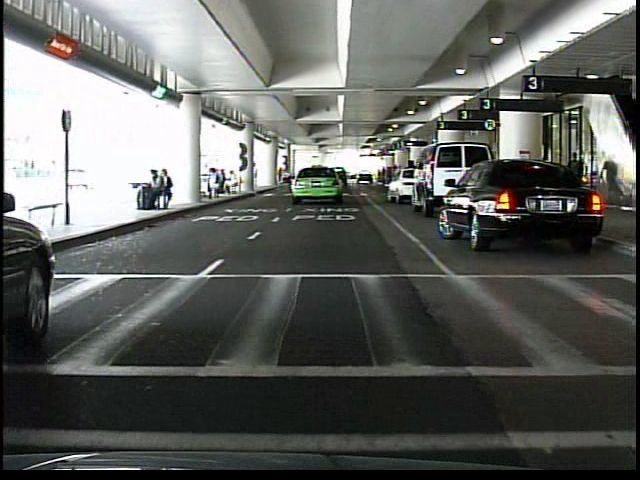person: (563, 149, 588, 212)
